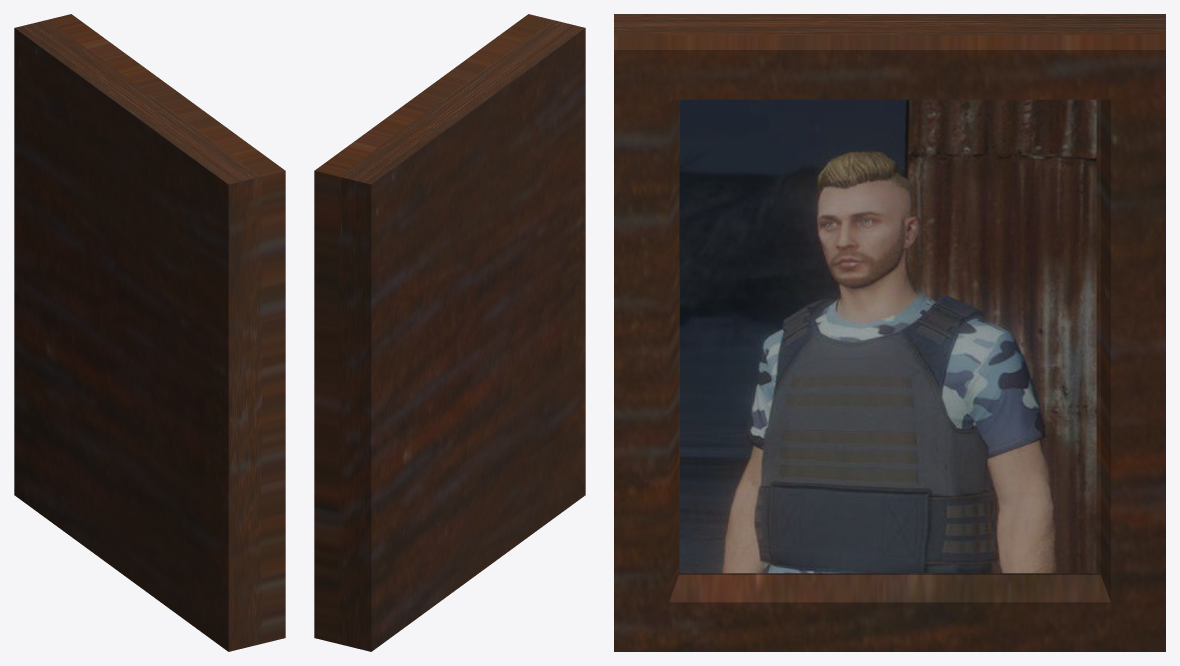
Rendered from painting1.fbx.
The picture shows the model from 3 angles, left to right: view 1: azimuth 30°, elevation 25°; view 2: azimuth 150°, elevation 25°; view 3: azimuth 270°, elevation 25°; orthographic projection. The views are drawn at different scales.
Visible parts, largest first — view 1: Cube; view 2: Cube; view 3: Plane, Cube.
Boxes of the visible parts, x1,y1,x2,y2 form: Cube: (14, 14, 285, 651); Cube: (314, 14, 585, 651); Plane: (679, 99, 1096, 573); Cube: (614, 14, 1165, 651).
Size of the model in its own units: 339 by 2658 by 2207.
2 materials, 2 textured.
